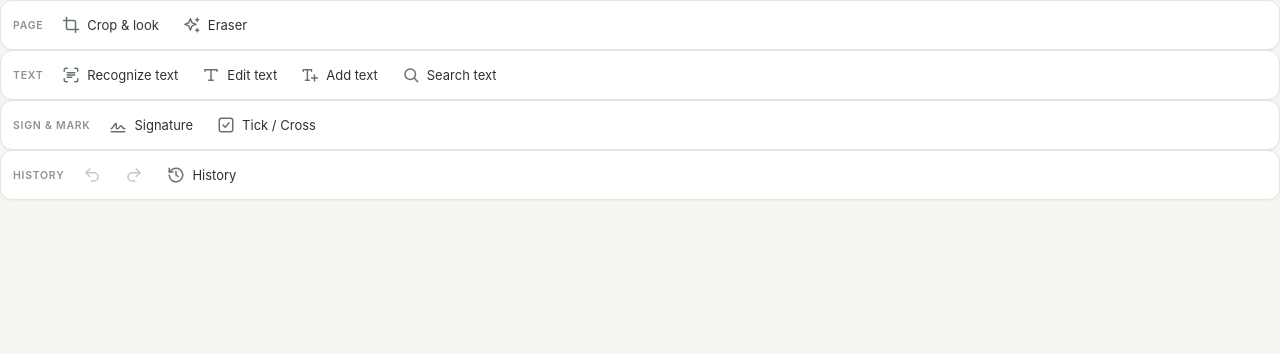
Test: EditToolbarComponent › history lists signatures and marks placed on the page
Click the button "History": {"x": 202, "y": 175} x1=156 y1=155 x2=247 y2=195
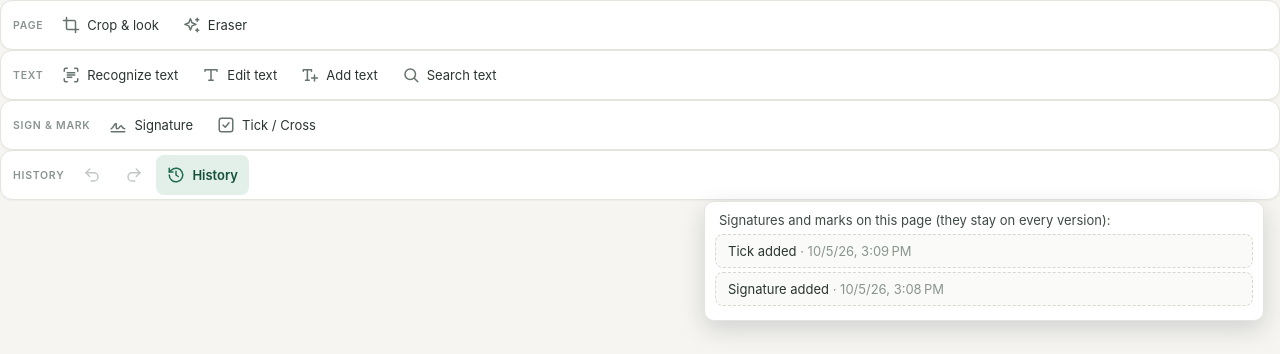
Expected: the list item "Tick added · 10/5/26, 3:09 PM" is shown, x1=715 y1=234 x2=1253 y2=268
Expected: the list item "Signature added · 10/5/26, 3:08 PM" is shown, x1=715 y1=272 x2=1253 y2=306
